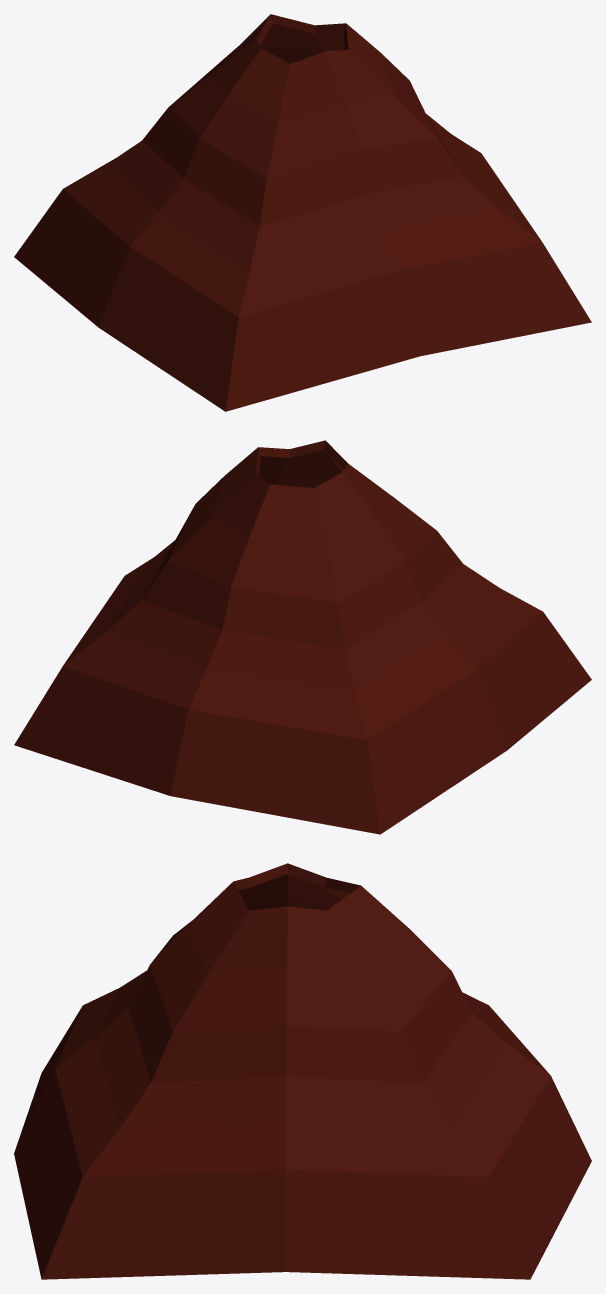
File: Volcano.fbx
The picture shows the model from 3 angles, top to bottom: view 1: azimuth 30°, elevation 25°; view 2: azimuth 150°, elevation 25°; view 3: azimuth 270°, elevation 25°; orthographic projection. The views are drawn at different scales.
Parts seen in each view (by area): view 1: Cube; view 2: Cube; view 3: Cube.
Part boxes in pixels (bbox=[...]): Cube: bbox=[14, 14, 591, 411]; Cube: bbox=[14, 440, 591, 834]; Cube: bbox=[14, 863, 591, 1279].
Size of the model in its own units: 5480 by 3234 by 5741.
